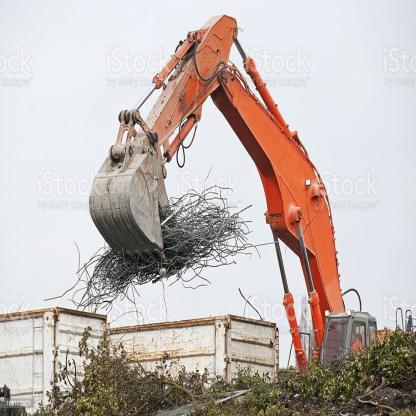rebar: (89, 193, 239, 293)
